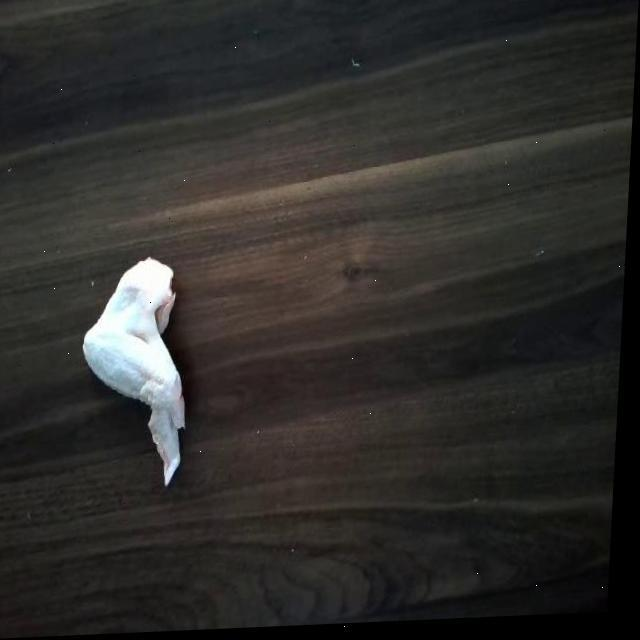wing: (83, 259, 217, 486)
